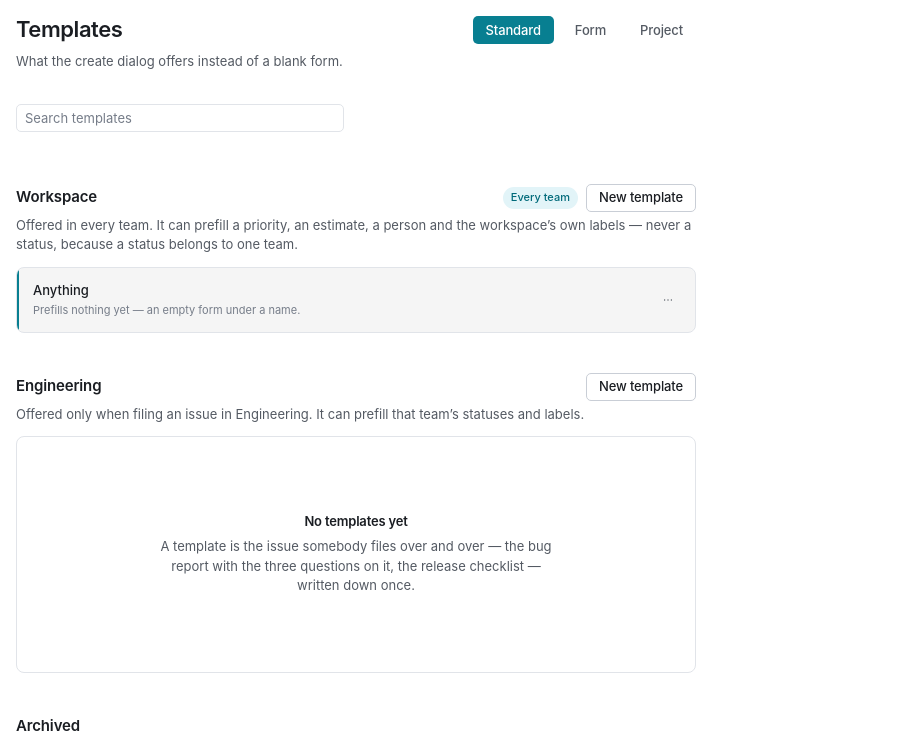
Test: Templates on the settings frame › offers a row its actions through its own menu
Click the button named "Options for Anything": (668, 300) [657, 288, 679, 310]
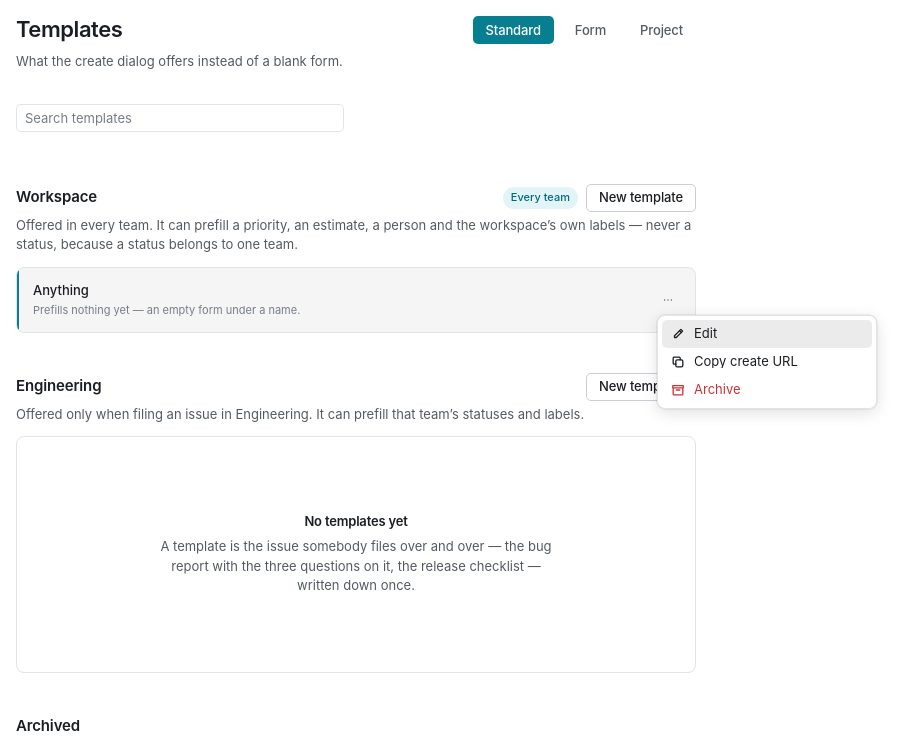
expect the menu items read "Edit", "Copy create URL", "Archive", in this order: met, box [662, 320, 872, 348]; [671, 353, 798, 369]; [671, 381, 740, 397]
